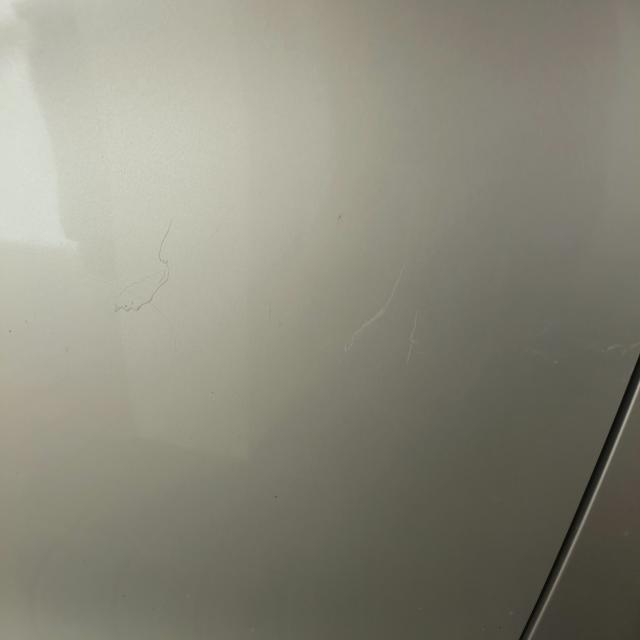scratch: (348, 262, 424, 362), (109, 214, 179, 310)
